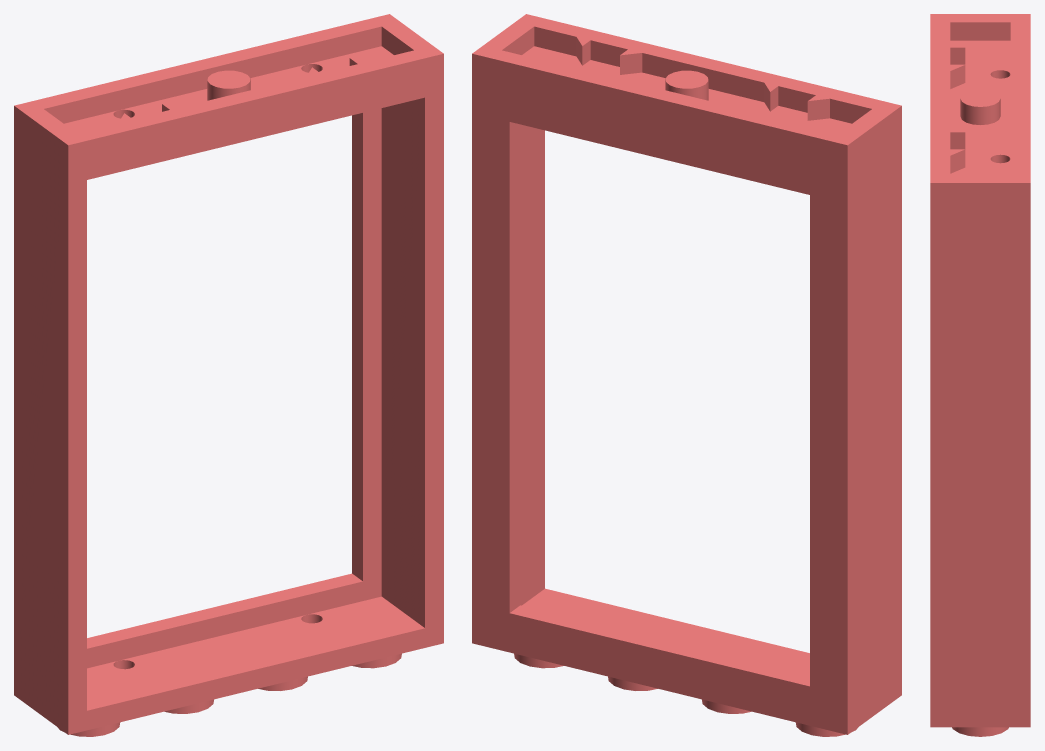
The picture shows the model from 3 angles, left to right: view 1: azimuth 30°, elevation 25°; view 2: azimuth 150°, elevation 25°; view 3: azimuth 270°, elevation 25°; orthographic projection. The views are drawn at different scales.
Visible parts, largest first — view 1: LDrawPart; view 2: LDrawPart; view 3: LDrawPart.
Part boxes in pixels (x1=…): LDrawPart: x1=14, y1=14, x2=443, y2=736; LDrawPart: x1=472, y1=14, x2=901, y2=736; LDrawPart: x1=930, y1=14, x2=1030, y2=736.
Size of the model in its own units: 0.56 by 0.868 by 0.14.
